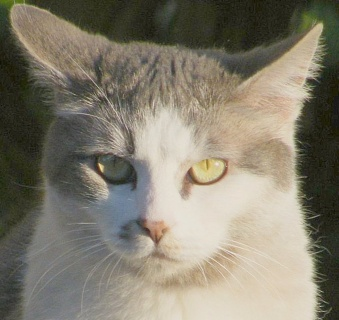Cat: (0, 1, 330, 319)
